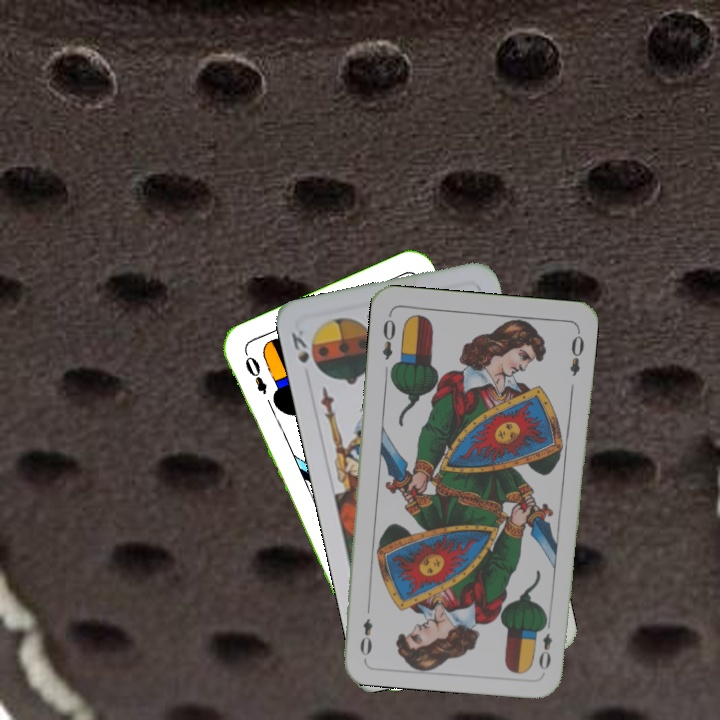EO: (240, 348, 270, 397), (535, 614, 555, 673), (378, 315, 399, 362)
SK: (287, 325, 312, 366)
